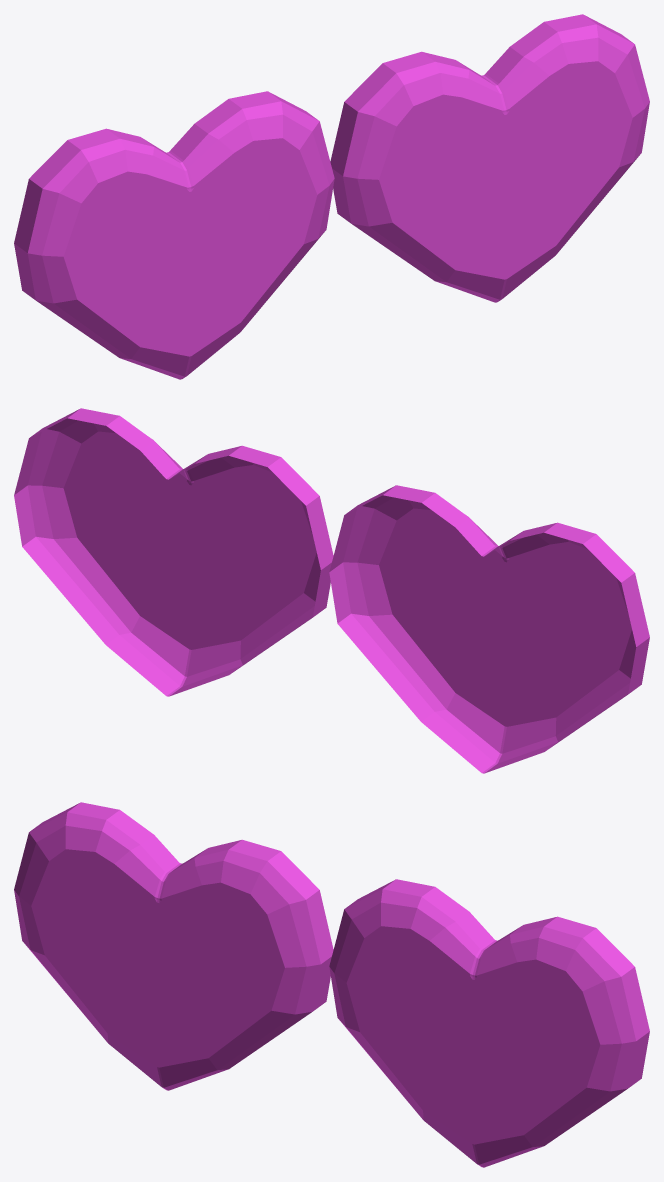
The model's file is 2heartsBeating.fbx.
The picture shows the model from 3 angles, top to bottom: view 1: azimuth 30°, elevation 25°; view 2: azimuth 150°, elevation 25°; view 3: azimuth 330°, elevation 25°; orthographic projection.
Visible parts, largest first — view 1: Plane.001; view 2: Plane.001; view 3: Plane.001.
Boxes of the visible parts, x1,y1,x2,y2 form: Plane.001: (14,14,649,379); Plane.001: (14,408,649,773); Plane.001: (14,802,649,1167).
Bounding box in the file's own units: 27.74 × 10.89 × 1.78.
